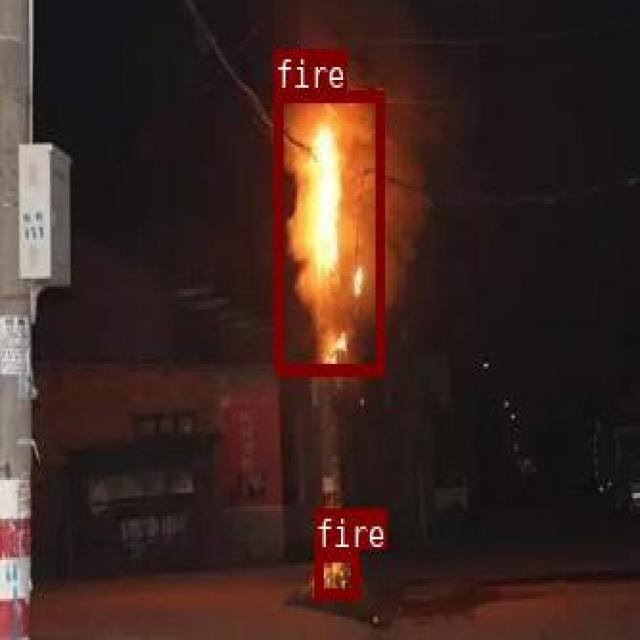fire: (273, 88, 383, 372), (314, 548, 358, 598)
